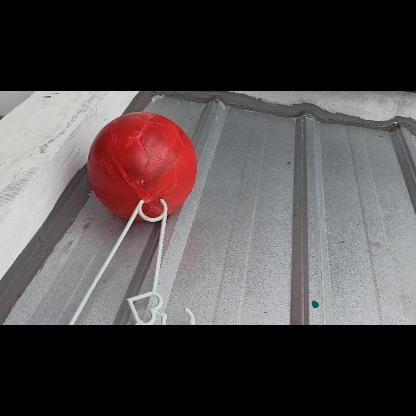red_ball: (88, 111, 198, 221)
